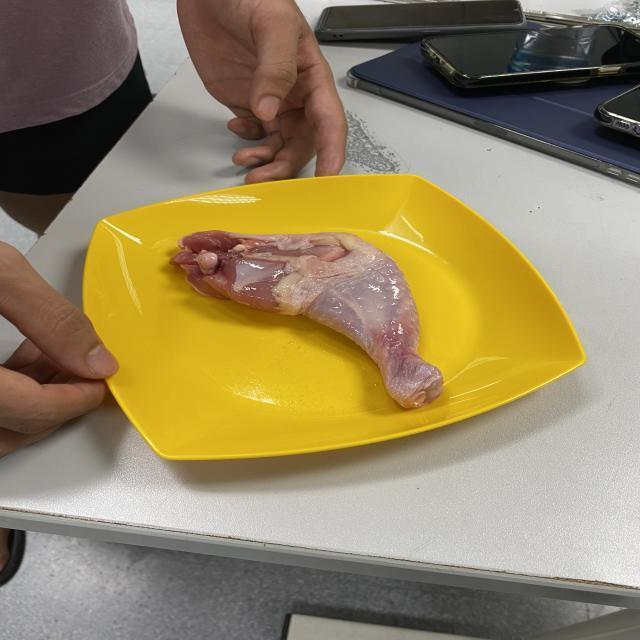quater: (182, 220, 440, 406)
